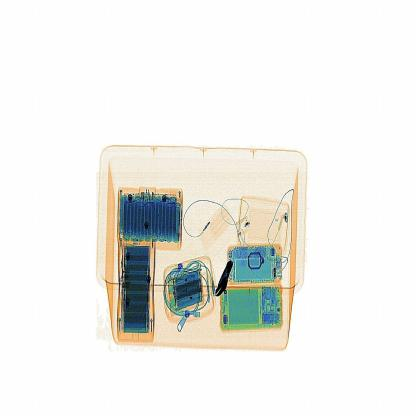knife: (206, 248, 233, 301)
